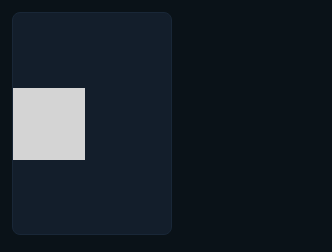
LeaderSlot › muestra el líder y lo quita al hacer clic
What coordinates should you click on to do the following:
click the button named "Quitar líder Luffy"
I would click on:
 (92, 124)
Its box is [12, 12, 172, 236].
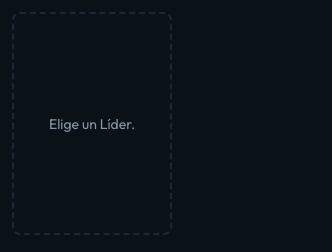
Result: the text "Elige un Líder." is shown at [49, 114, 135, 134]
